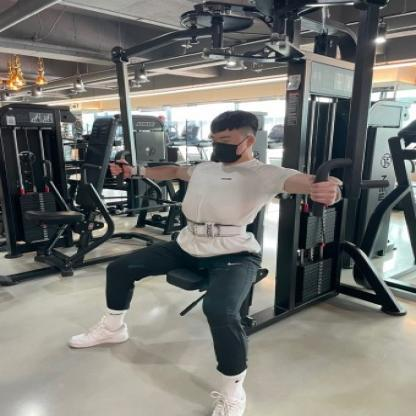chest fly machine: (55, 0, 416, 416)
